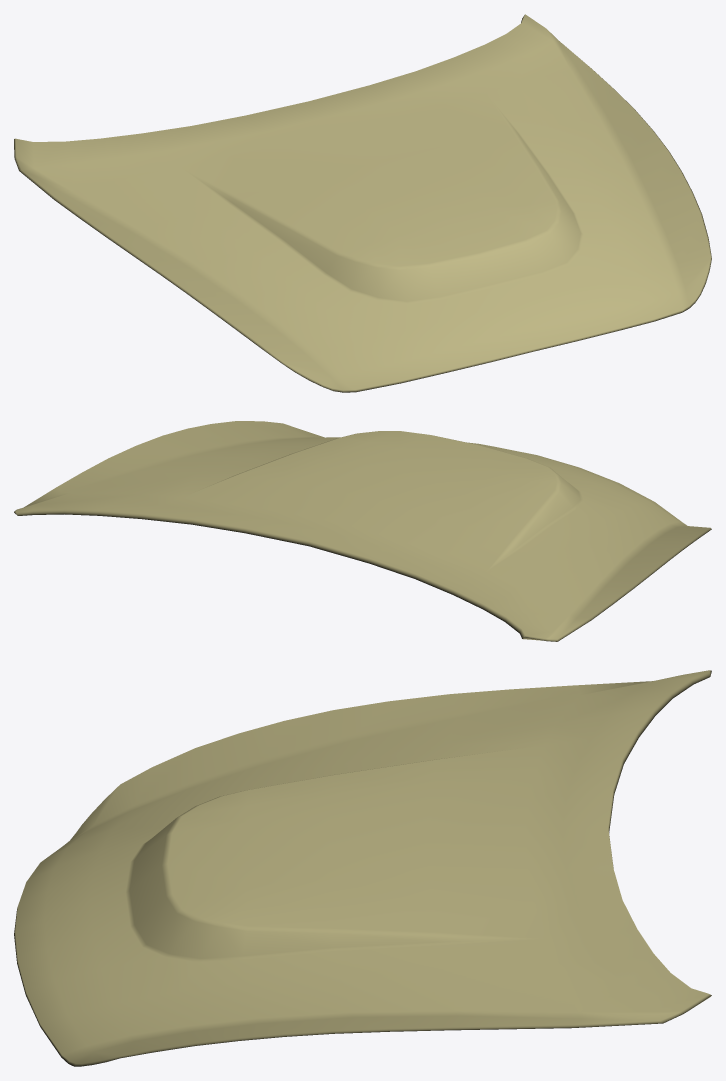
Rendered from G37_Hood_03_Duco.fbx.
3 renders of one model, top to bottom at view 1: azimuth 30°, elevation 25°; view 2: azimuth 150°, elevation 25°; view 3: azimuth 270°, elevation 25°, orthographic. The views are drawn at different scales.
Parts seen in each view (by area): view 1: G37_Hood_03_Duco; view 2: G37_Hood_03_Duco; view 3: G37_Hood_03_Duco.
Part boxes in pixels (x1,y1,x2,y2): G37_Hood_03_Duco: (14, 14, 711, 392); G37_Hood_03_Duco: (14, 421, 711, 641); G37_Hood_03_Duco: (14, 670, 711, 1066).
Size of the model in its own units: 150 by 26.09 by 130.
